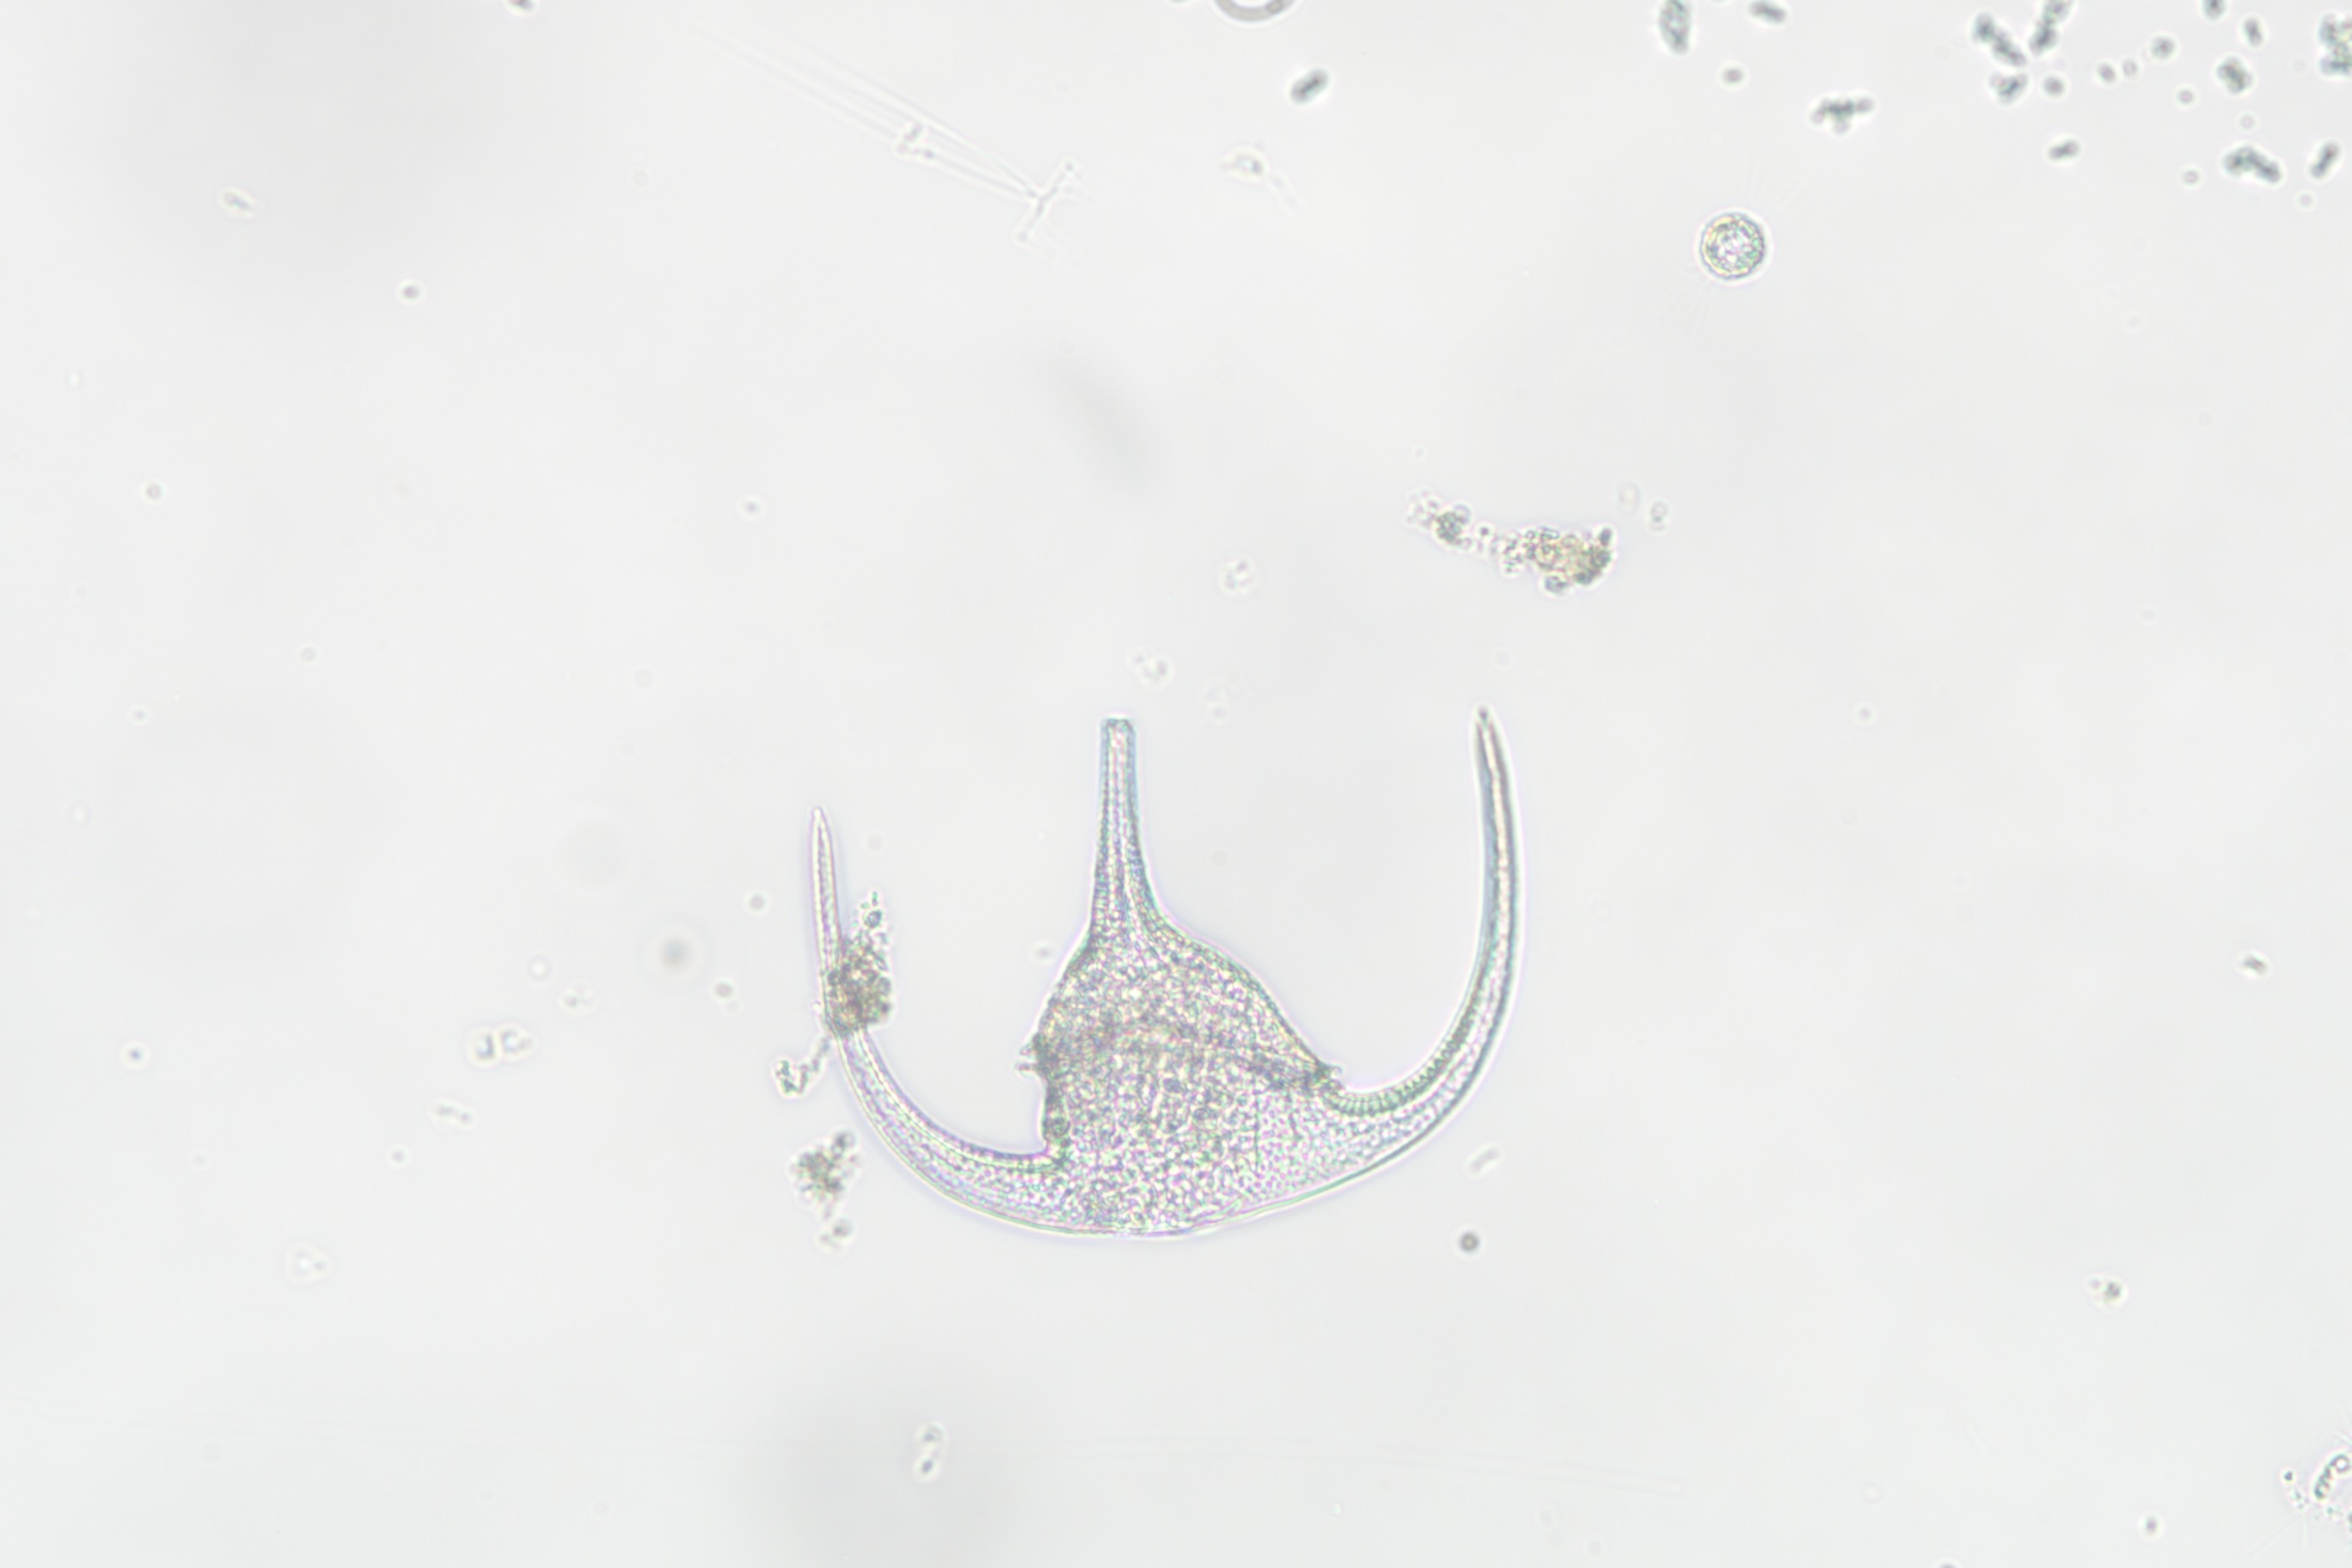ceratium tripos: (761, 665, 1587, 1244)
